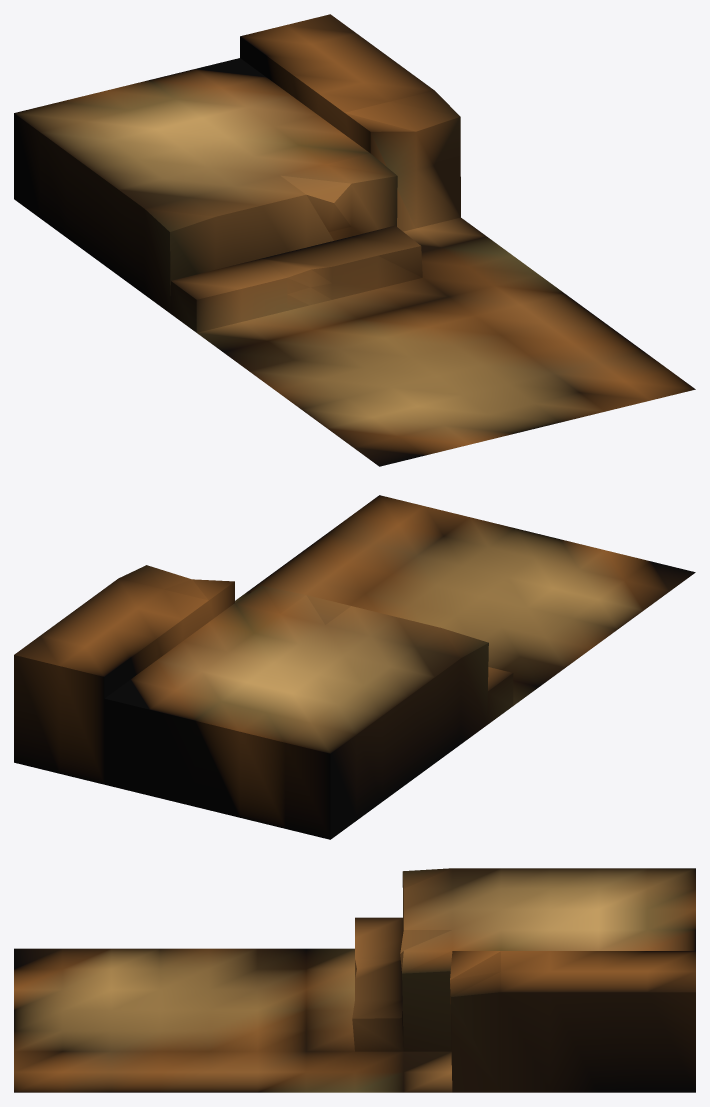
The model's file is vagrant_010.fbx.
The picture shows the model from 3 angles, top to bottom: view 1: azimuth 30°, elevation 25°; view 2: azimuth 150°, elevation 25°; view 3: azimuth 270°, elevation 25°; orthographic projection. The views are drawn at different scales.
Parts seen in each view (by area): view 1: Grid.002; view 2: Grid.002; view 3: Grid.002.
Boxes of the visible parts, x1,y1,x2,y2 form: Grid.002: (14, 14, 695, 466); Grid.002: (14, 495, 695, 839); Grid.002: (14, 868, 695, 1092).
Bounding box in the file's own units: 2.01 × 0.6505 × 4.
